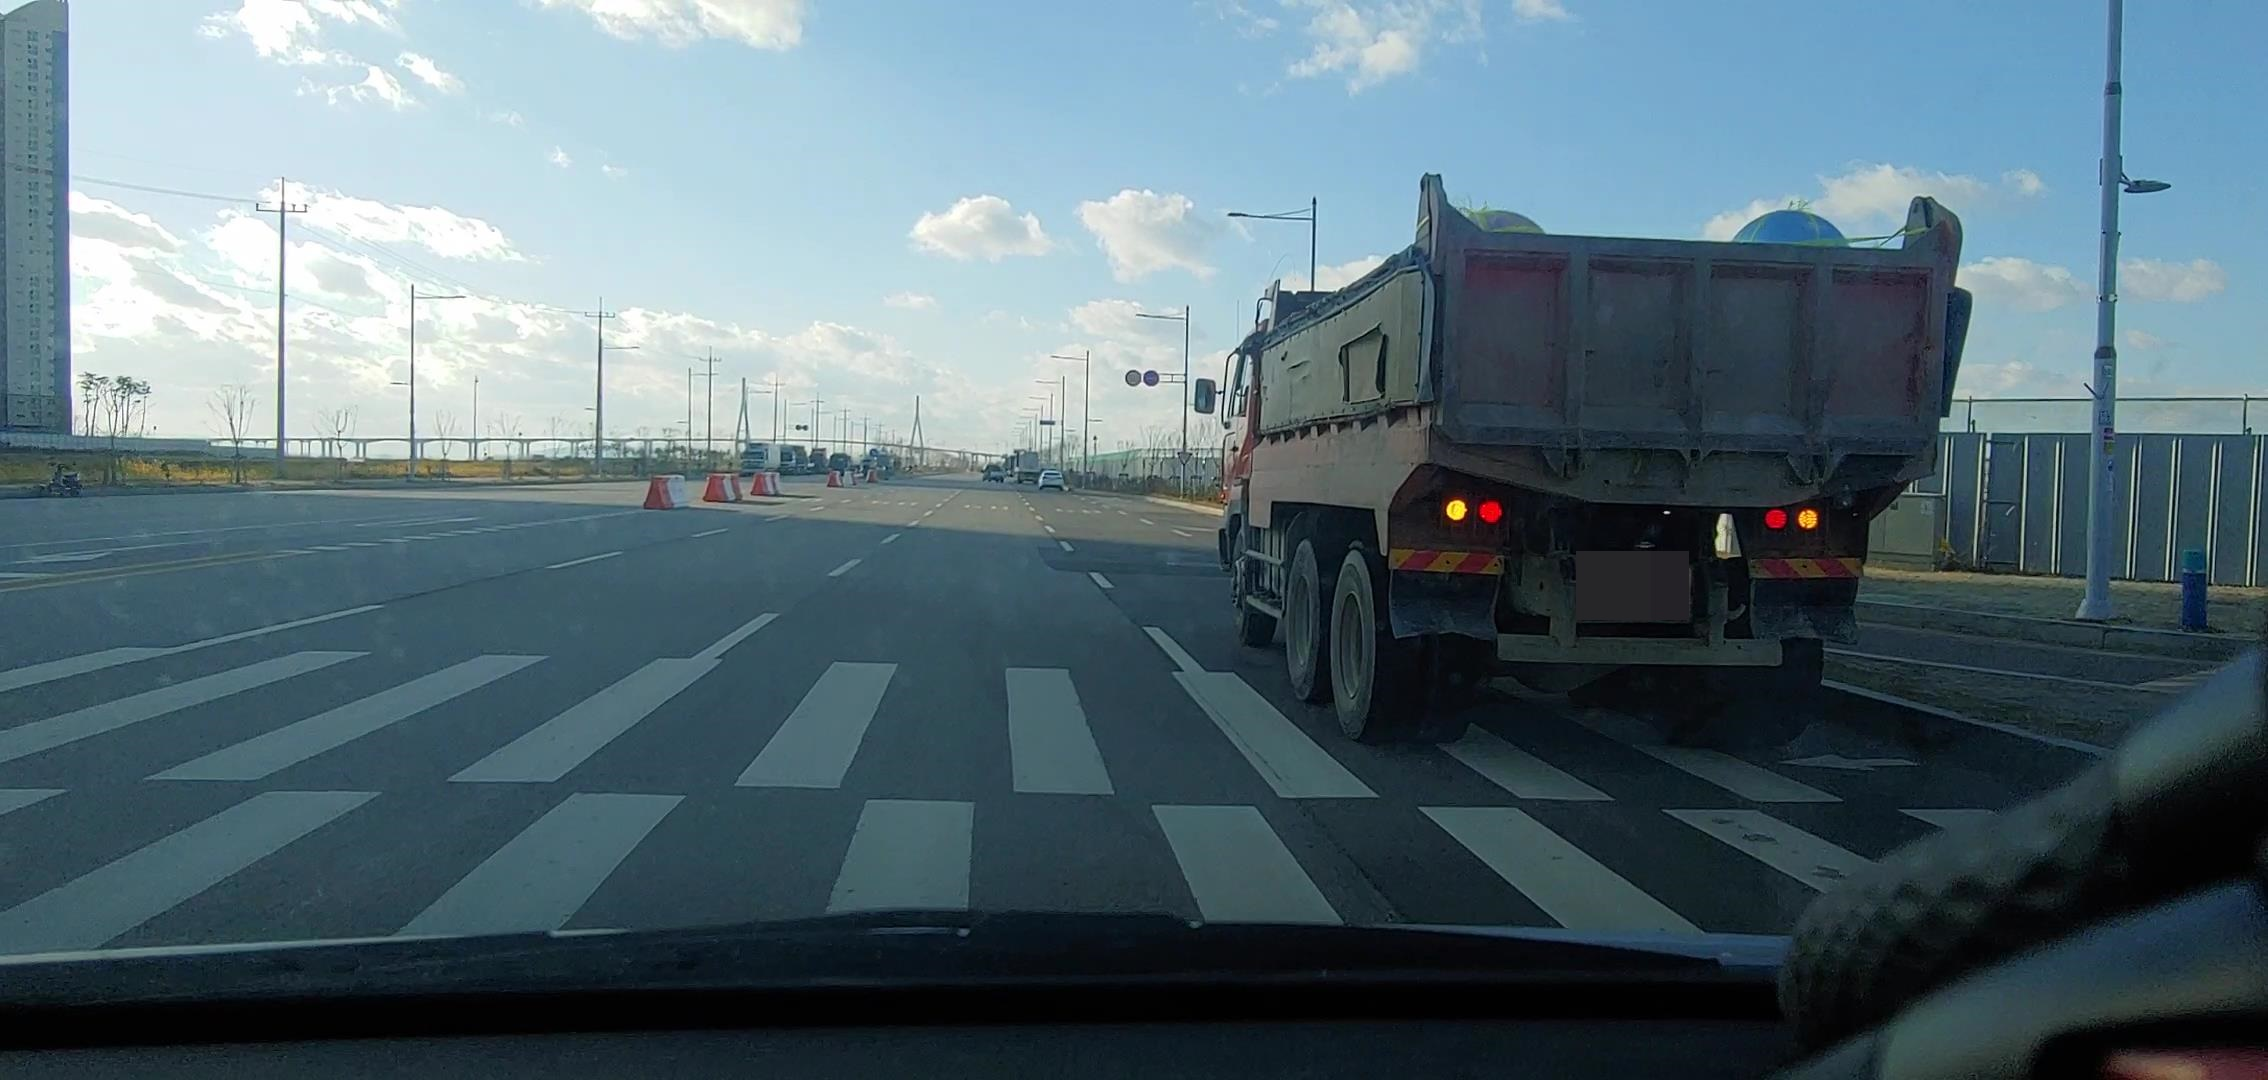불법차량: (1190, 171, 1970, 753)
